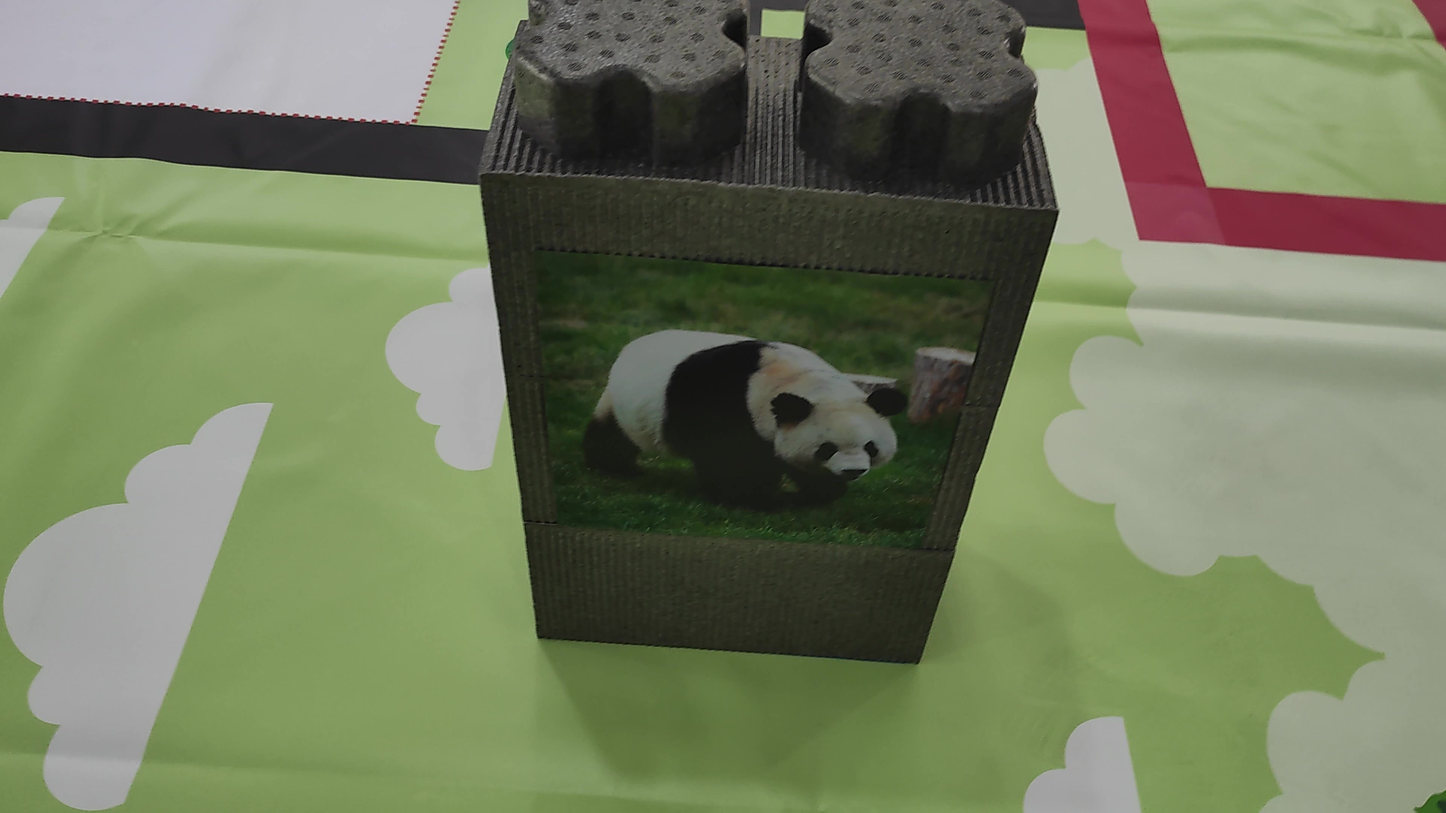panda: (574, 314, 917, 531)
